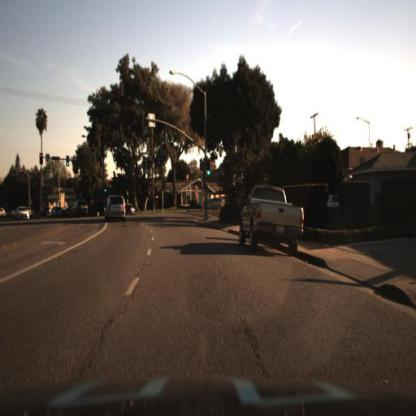car: (235, 169, 307, 267), (13, 192, 40, 233), (69, 195, 94, 224), (104, 194, 127, 225), (70, 201, 90, 222), (14, 204, 32, 222), (208, 197, 227, 213), (126, 203, 138, 221)
trafficLight-Green: (204, 167, 212, 183), (64, 154, 72, 169), (64, 155, 71, 171), (102, 182, 108, 199), (206, 163, 213, 177), (104, 186, 110, 199)
trafficLight-Red: (37, 152, 45, 173)
trafficLight-RedLeft: (38, 151, 45, 167)
